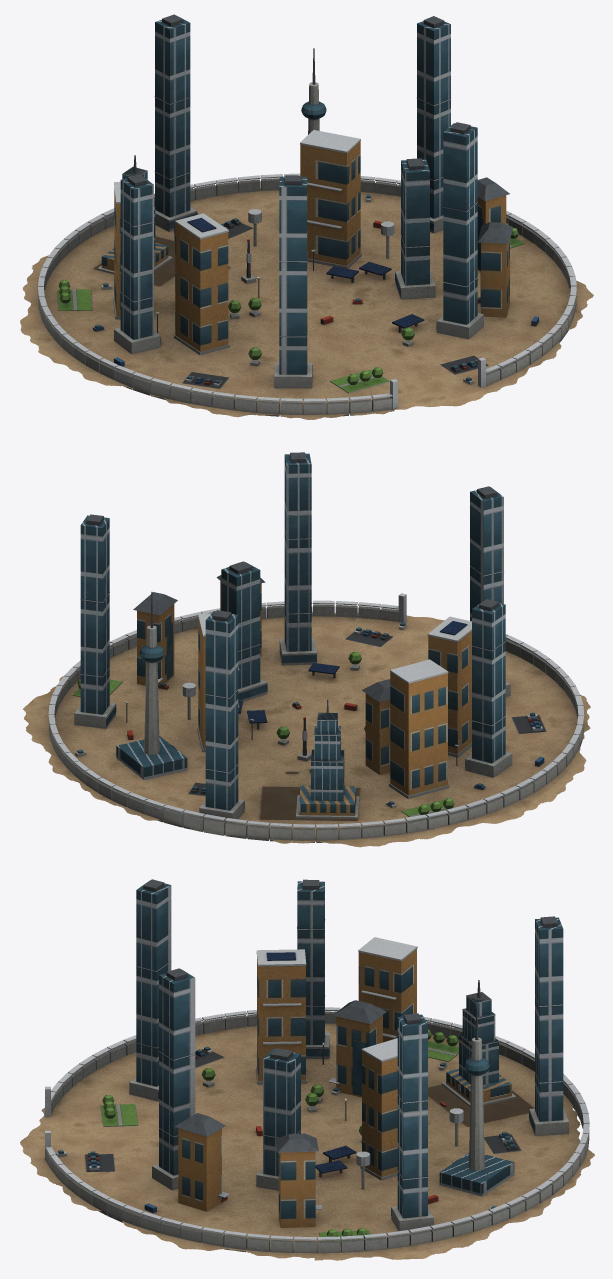
The model's file is information-town-medium-a-indic.glb.
3 renders of one model, top to bottom at view 1: azimuth 30°, elevation 25°; view 2: azimuth 150°, elevation 25°; view 3: azimuth 270°, elevation 25°, orthographic. The views are drawn at different scales.
Visible parts, largest first — view 1: LOD0; view 2: LOD0; view 3: LOD0.
Boxes of the visible parts, <box> form: LOD0: <box>20,14,593,419</box>; LOD0: <box>23,452,590,847</box>; LOD0: <box>20,879,594,1260</box>.
Size of what is drawn, in the model's own units: 5.95 by 2.3 by 5.81.
Materials: 3 (3 with a texture image).
